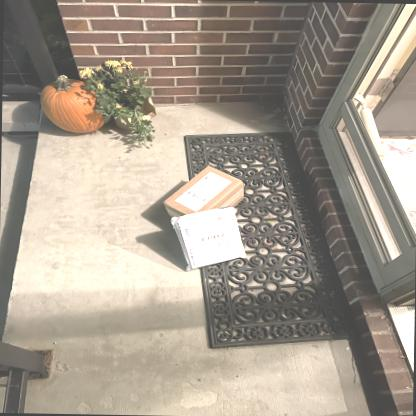box: (163, 164, 244, 217)
plastic_bag: (171, 206, 246, 272)
